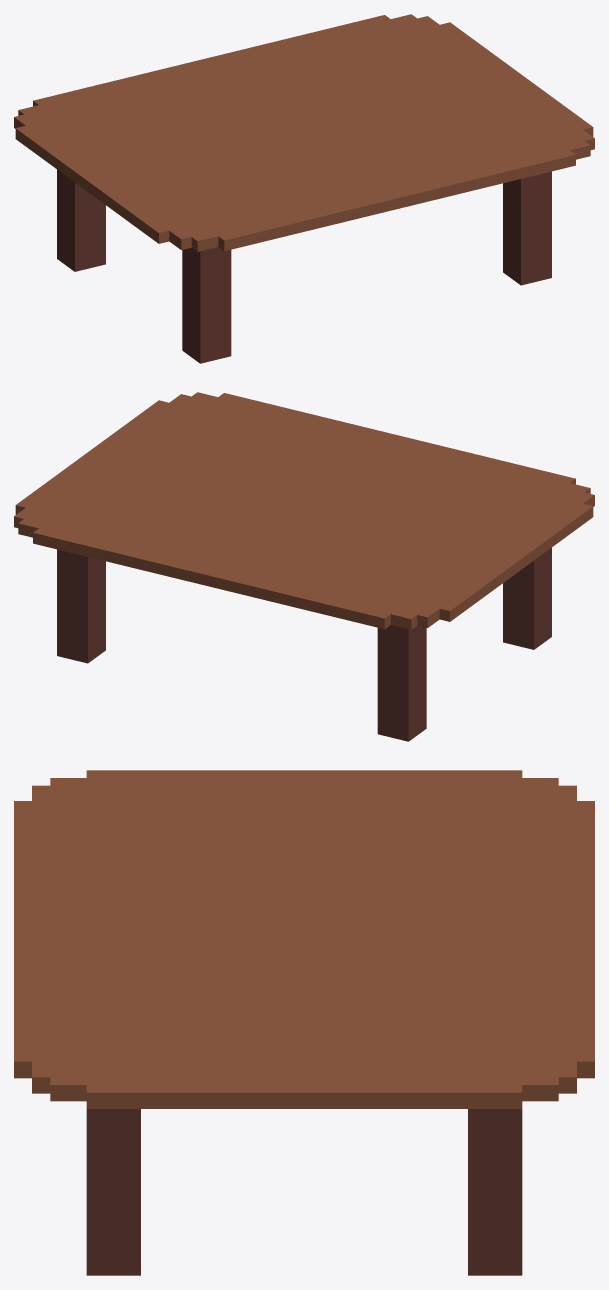
File: table_plain.obj
3 views of the same model, one above another, from view 1: azimuth 30°, elevation 25°; view 2: azimuth 150°, elevation 25°; view 3: azimuth 270°, elevation 25° (orthographic). The views are drawn at different scales.
Bounding box in the file's own units: 4.2 × 1.3 × 3.2.
1 material, 1 textured.
